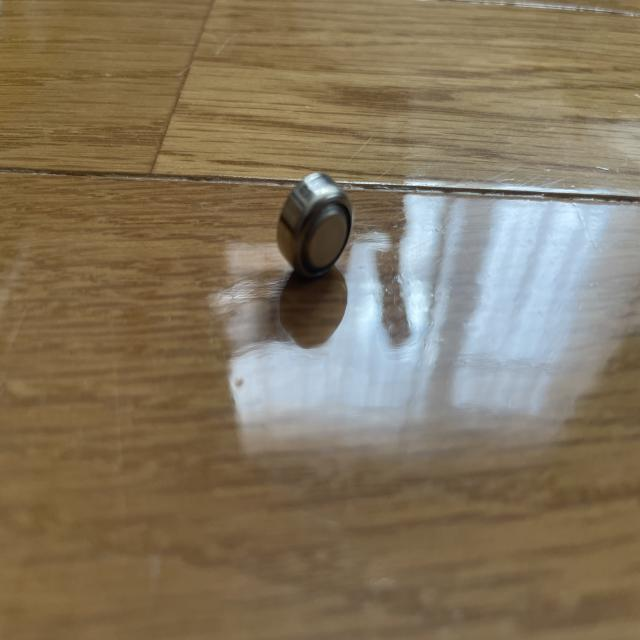COIN: (274, 171, 356, 280)
